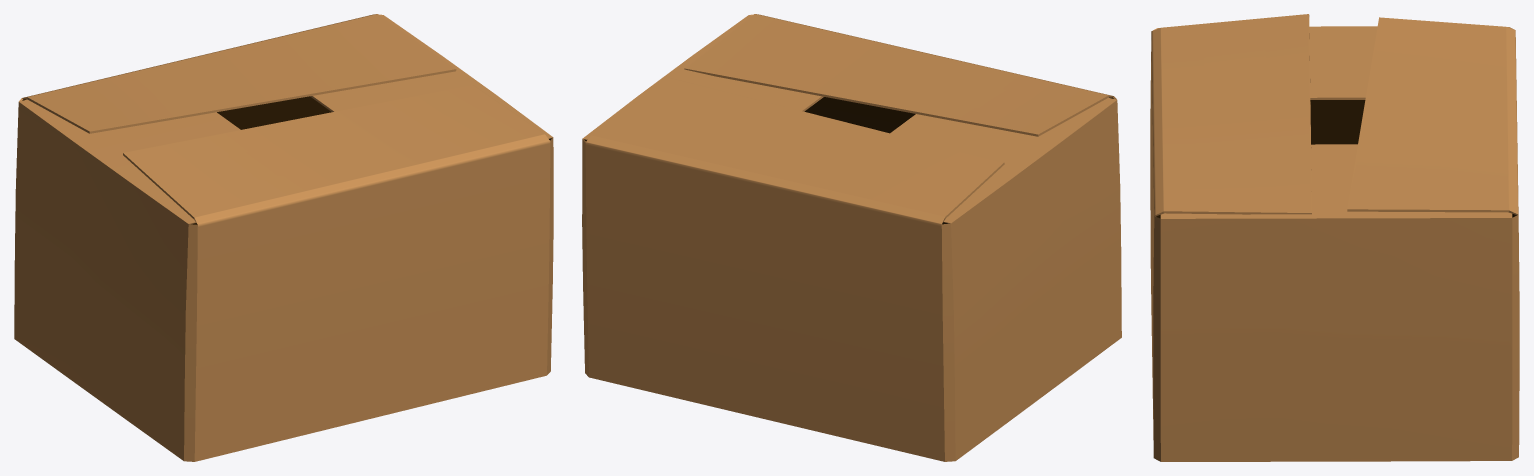
The picture shows the model from 3 angles, left to right: view 1: azimuth 30°, elevation 25°; view 2: azimuth 150°, elevation 25°; view 3: azimuth 270°, elevation 25°; orthographic projection. The views are drawn at different scales.
Parts seen in each view (by area): view 1: Box; view 2: Box; view 3: Box.
Part boxes in pixels (left/top/right/bottom): Box: left=14, top=14, right=553, bottom=461; Box: left=582, top=14, right=1121, bottom=461; Box: left=1150, top=14, right=1519, bottom=461.
Size of the model in its own units: 60.72 by 39.58 by 49.72.
